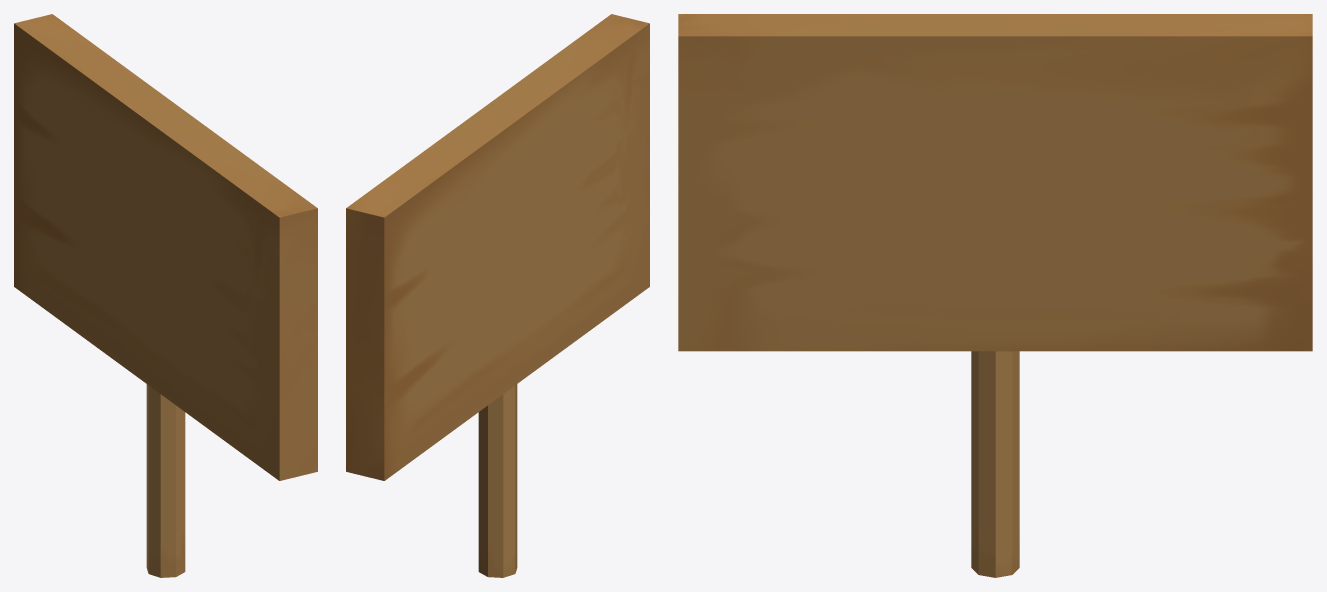
Rendered from sign.glb.
3 views of the same model, side by side, from view 1: azimuth 30°, elevation 25°; view 2: azimuth 150°, elevation 25°; view 3: azimuth 270°, elevation 25° (orthographic). The views are drawn at different scales.
Parts seen in each view (by area): view 1: Cube.001, 圓柱體; view 2: Cube.001, 圓柱體; view 3: Cube.001, 圓柱體.
Part boxes in pixels (bbox=[...]): Cube.001: bbox=[14, 14, 317, 480]; 圓柱體: bbox=[146, 384, 185, 577]; Cube.001: bbox=[346, 14, 649, 480]; 圓柱體: bbox=[478, 384, 517, 577]; Cube.001: bbox=[678, 14, 1312, 351]; 圓柱體: bbox=[971, 351, 1019, 577].
Size of the model in its own units: 0.167 by 1.89 by 2.
Materials: 1 (1 with a texture image).
